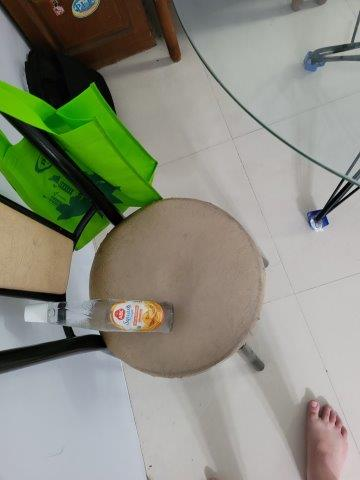botolkaca: (23, 300, 175, 334)
